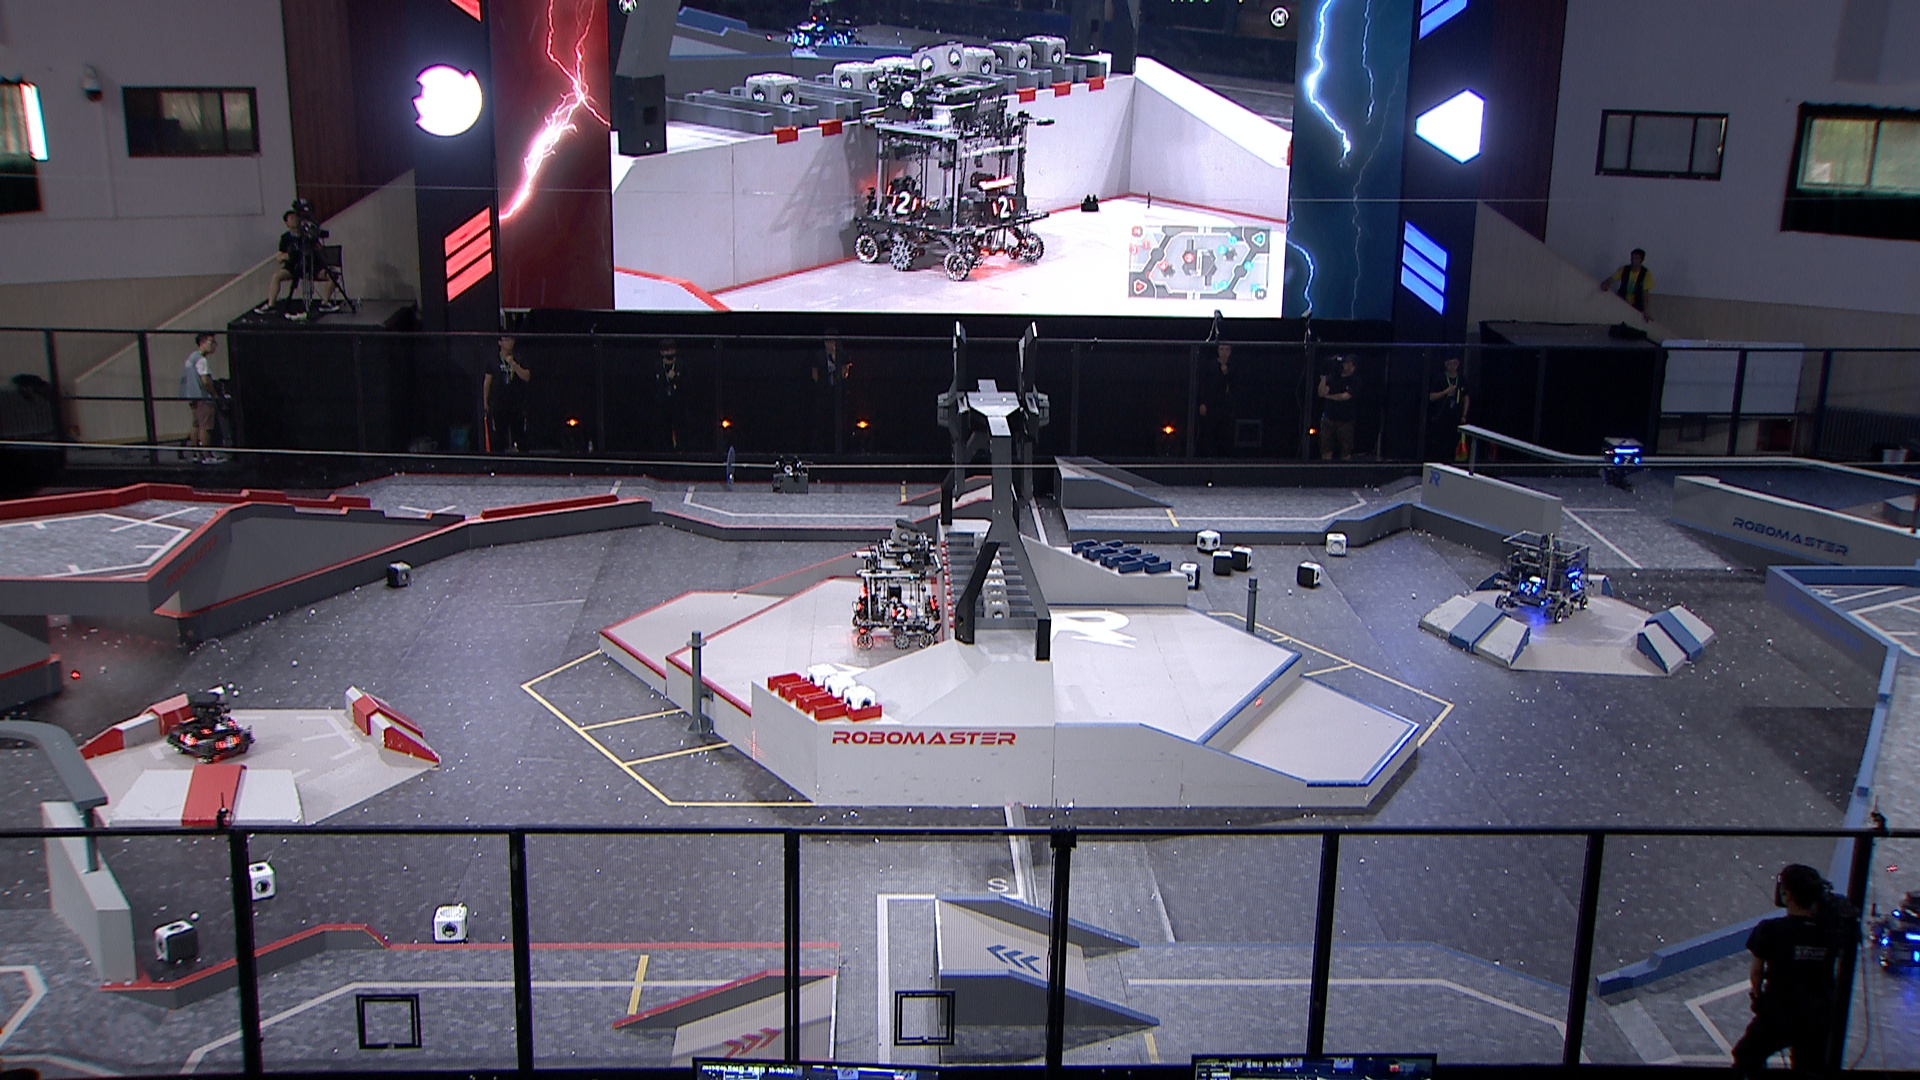armor: (200, 717, 235, 735), (214, 732, 243, 752), (1874, 924, 1894, 949), (887, 604, 913, 621), (1518, 579, 1539, 597), (1613, 454, 1640, 467), (178, 732, 199, 749), (1567, 576, 1585, 593)
car: (851, 529, 945, 654), (1491, 527, 1596, 626), (164, 688, 257, 765), (1865, 887, 1920, 973)
ignore: (855, 69, 1059, 282)
watcher: (1596, 433, 1647, 495)
